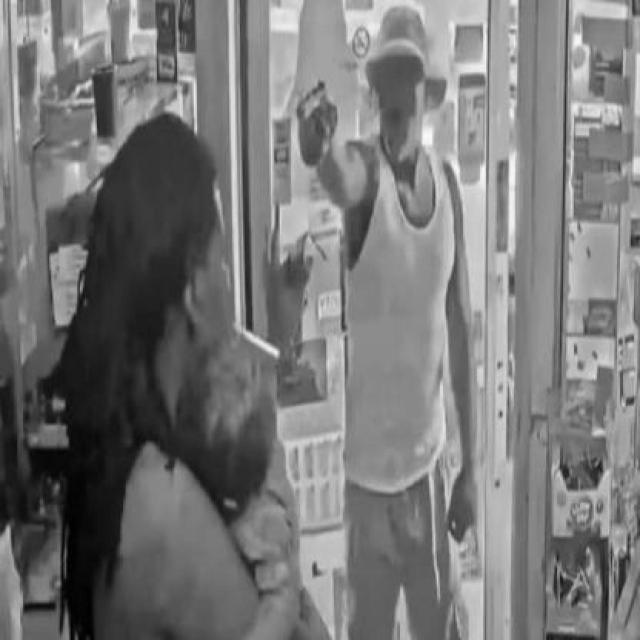weapon: (293, 78, 344, 148)
